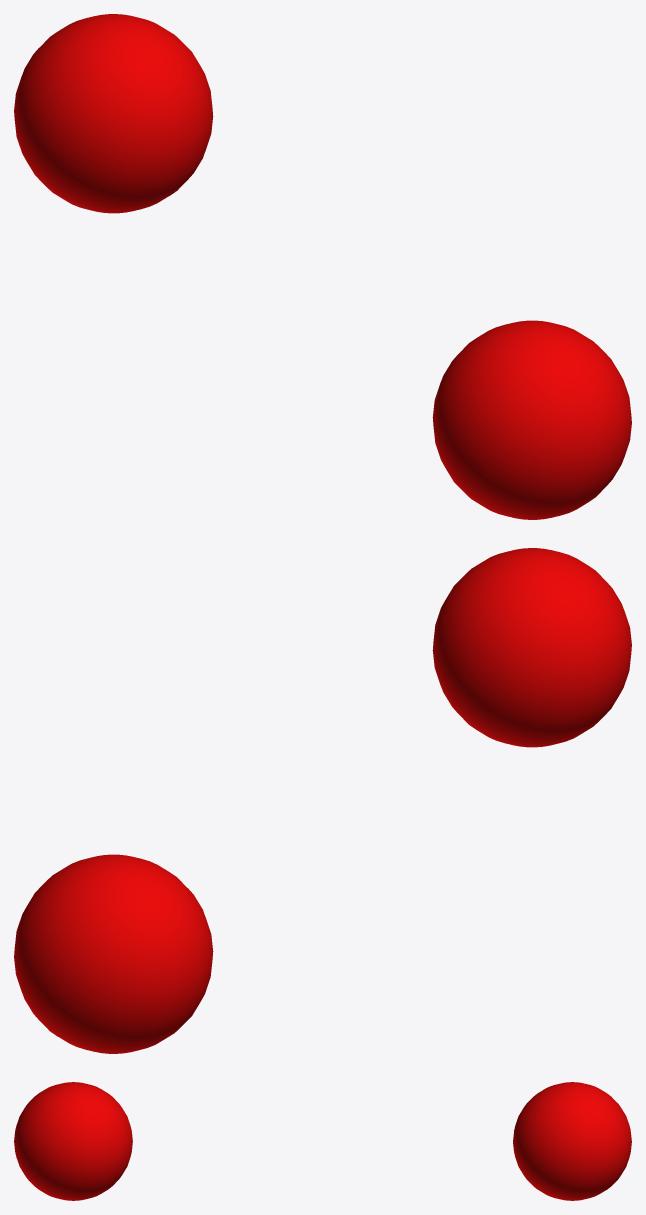
The model's file is RoboTHOR_basketballs_grp.fbx.
3 views of the same model, one above another, from view 1: azimuth 30°, elevation 25°; view 2: azimuth 150°, elevation 25°; view 3: azimuth 270°, elevation 25° (orthographic). The views are drawn at different scales.
Visible parts, largest first — view 1: thorkea_basketball_spalding, thorkea_basketball_rhode_island_novelty; view 2: thorkea_basketball_spalding, thorkea_basketball_rhode_island_novelty; view 3: thorkea_basketball_spalding, thorkea_basketball_rhode_island_novelty.
Boxes of the visible parts, box(x1,y1,x2,y2) form: thorkea_basketball_spalding: box(14, 14, 213, 213); thorkea_basketball_rhode_island_novelty: box(432, 320, 631, 519); thorkea_basketball_spalding: box(14, 854, 213, 1053); thorkea_basketball_rhode_island_novelty: box(432, 548, 631, 747); thorkea_basketball_spalding: box(513, 1082, 631, 1200); thorkea_basketball_rhode_island_novelty: box(14, 1082, 132, 1200).
Size of the model in its own units: 23.84 by 23.84 by 124.
